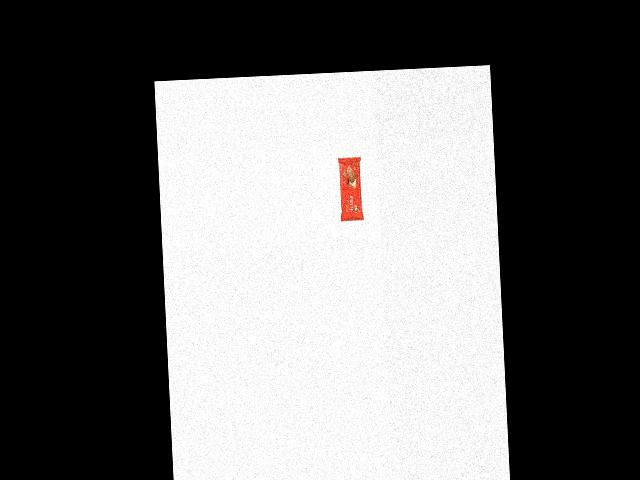chocolate: (337, 157, 363, 223)
